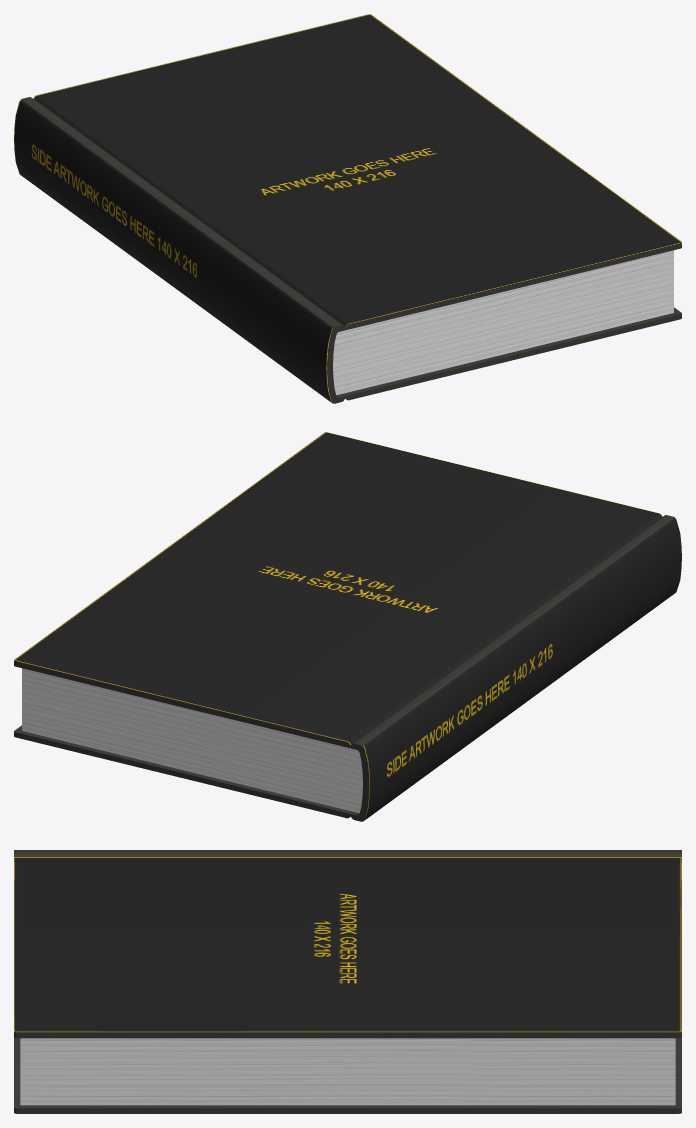
File: Book_LG.gltf
The picture shows the model from 3 angles, top to bottom: view 1: azimuth 30°, elevation 25°; view 2: azimuth 150°, elevation 25°; view 3: azimuth 270°, elevation 25°; orthographic projection. The views are drawn at different scales.
Visible parts, largest first — view 1: Book_140x216; view 2: Book_140x216; view 3: Book_140x216.
Boxes of the visible parts, x1,y1,x2,y2 form: Book_140x216: (14,14,681,403); Book_140x216: (14,432,681,821); Book_140x216: (14,850,681,1113).
Bounding box in the file's own units: 0.1452 × 0.0297 × 0.2204.
4 materials, 4 textured.
